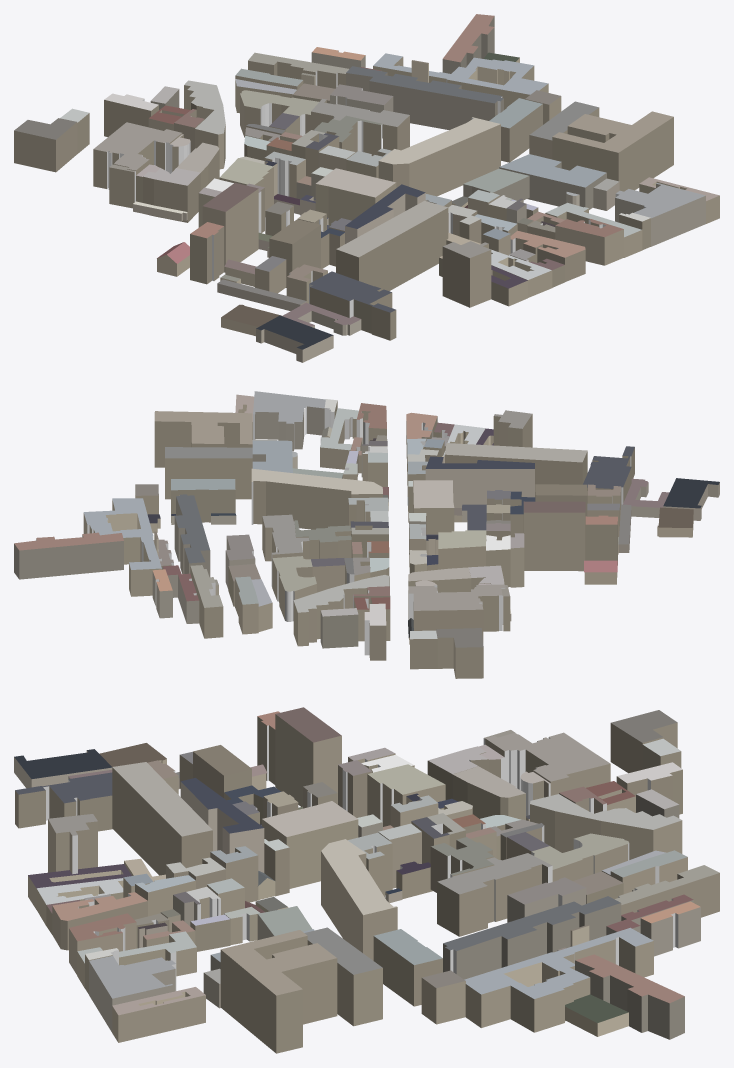
3 renders of one model, top to bottom at view 1: azimuth 30°, elevation 25°; view 2: azimuth 150°, elevation 25°; view 3: azimuth 270°, elevation 25°, orthographic. The views are drawn at different scales.
Parts seen in each view (by area): view 1: tuile; view 2: tuile; view 3: tuile.
Boxes of the visible parts, x1,y1,x2,y2 form: tuile: (14,14,719,362); tuile: (14,391,719,678); tuile: (14,707,719,1053).
Bounding box in the file's own units: 285 × 35.14 × 285.
